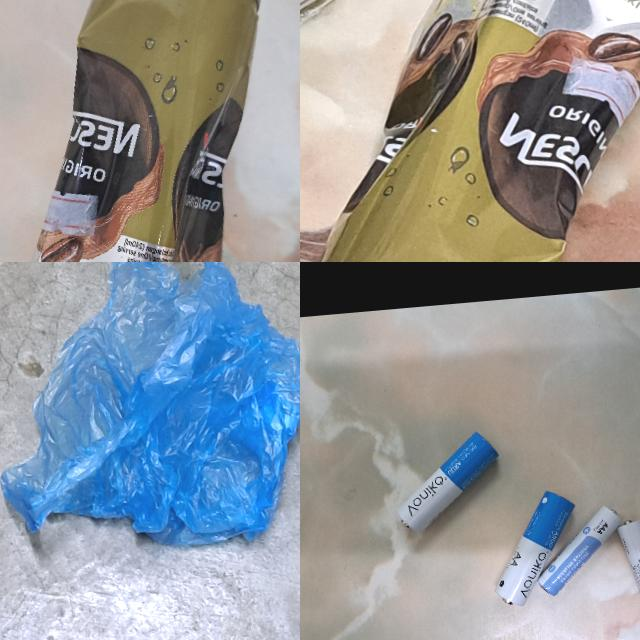bateria: (485, 487, 584, 607), (390, 430, 503, 535), (530, 504, 624, 597), (614, 513, 640, 627)
lata: (300, 0, 640, 262), (0, 0, 298, 262)
sacola plástica: (0, 262, 300, 562)
